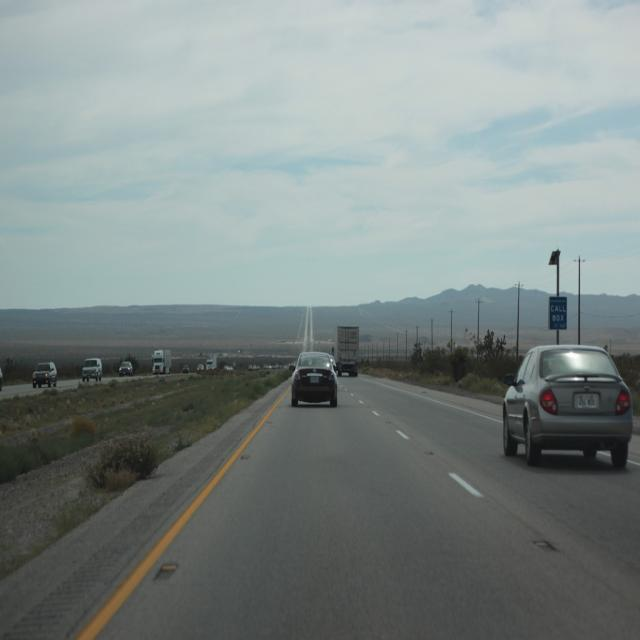car: (504, 340, 634, 470), (290, 346, 336, 406), (31, 355, 58, 390), (79, 355, 101, 382), (114, 353, 133, 373)
